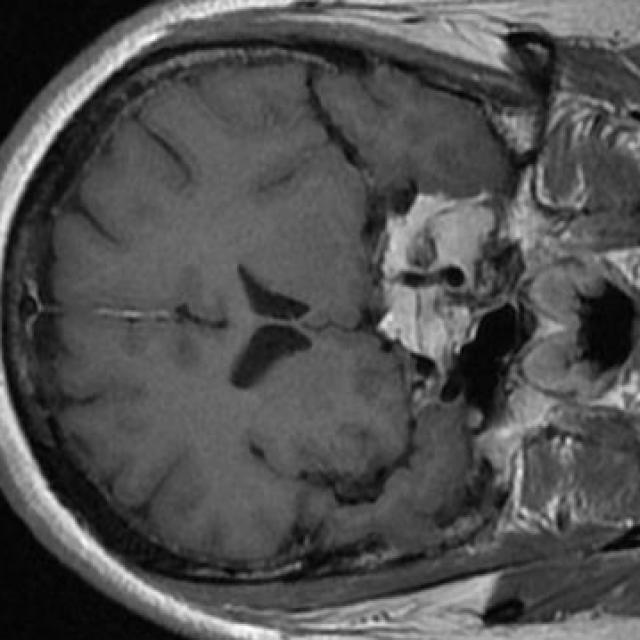meningioma: (376, 194, 494, 376)
